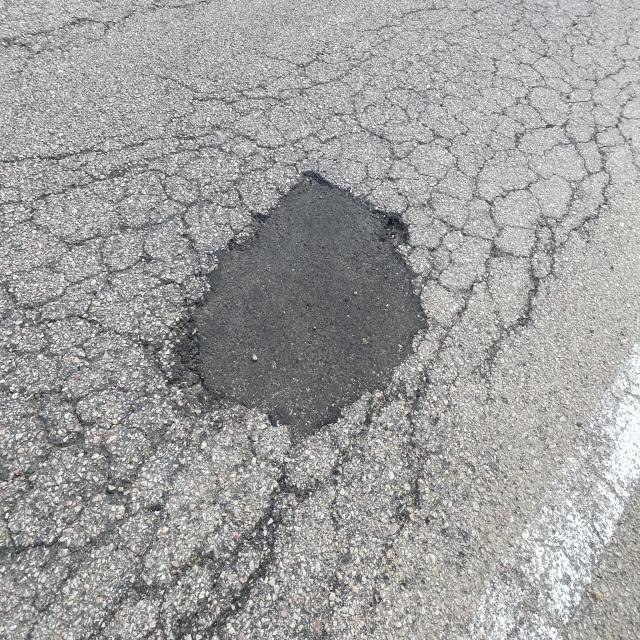pothole: (144, 122, 450, 541)
